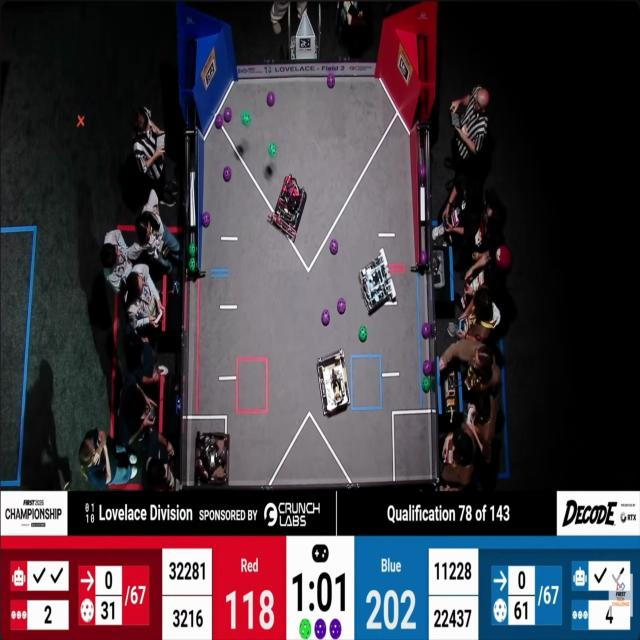artifact_green: (299, 619, 311, 639), (268, 142, 278, 158), (422, 376, 431, 393), (359, 326, 367, 342), (242, 111, 251, 125), (189, 243, 196, 257), (189, 258, 196, 272)
artifact_purple: (315, 619, 326, 639), (330, 619, 341, 639), (422, 323, 432, 339), (423, 361, 433, 376), (322, 310, 330, 326), (330, 239, 338, 255), (337, 298, 345, 314), (223, 166, 231, 182), (215, 114, 223, 129), (224, 107, 232, 122), (202, 213, 210, 227), (267, 92, 275, 106), (327, 74, 335, 88), (419, 164, 426, 179), (421, 250, 427, 265)
